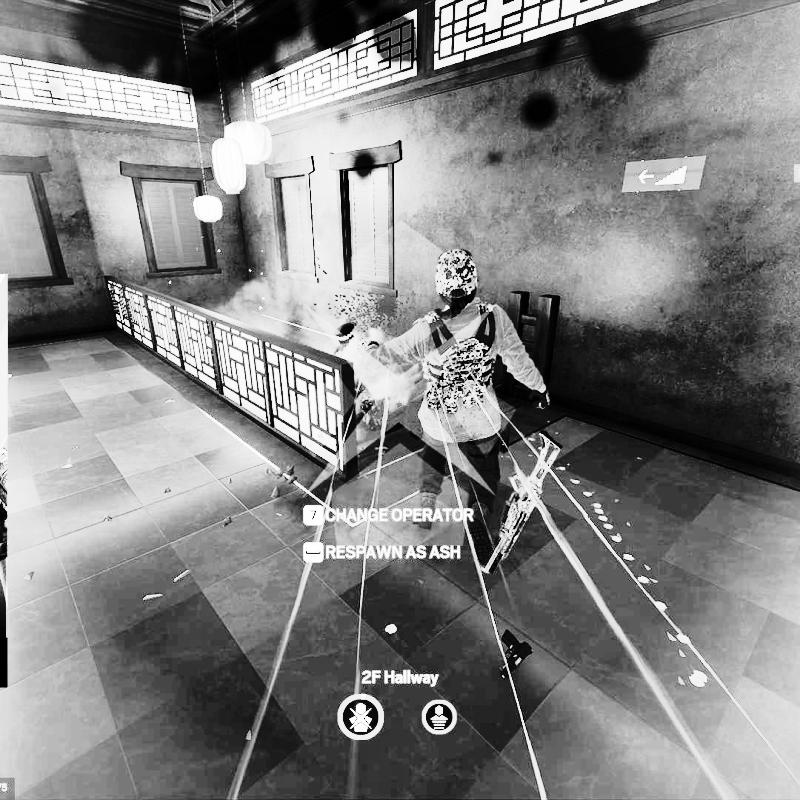Character: (368, 246, 554, 570), (330, 322, 391, 438)
Head: (433, 247, 481, 310), (335, 324, 357, 350)
